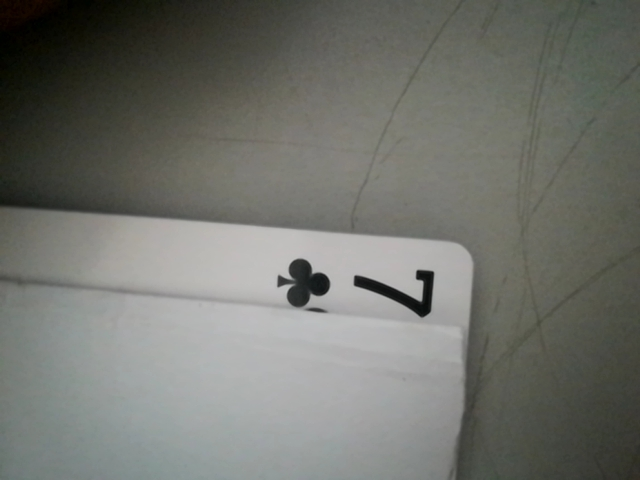mh 7: (263, 247, 457, 321)
